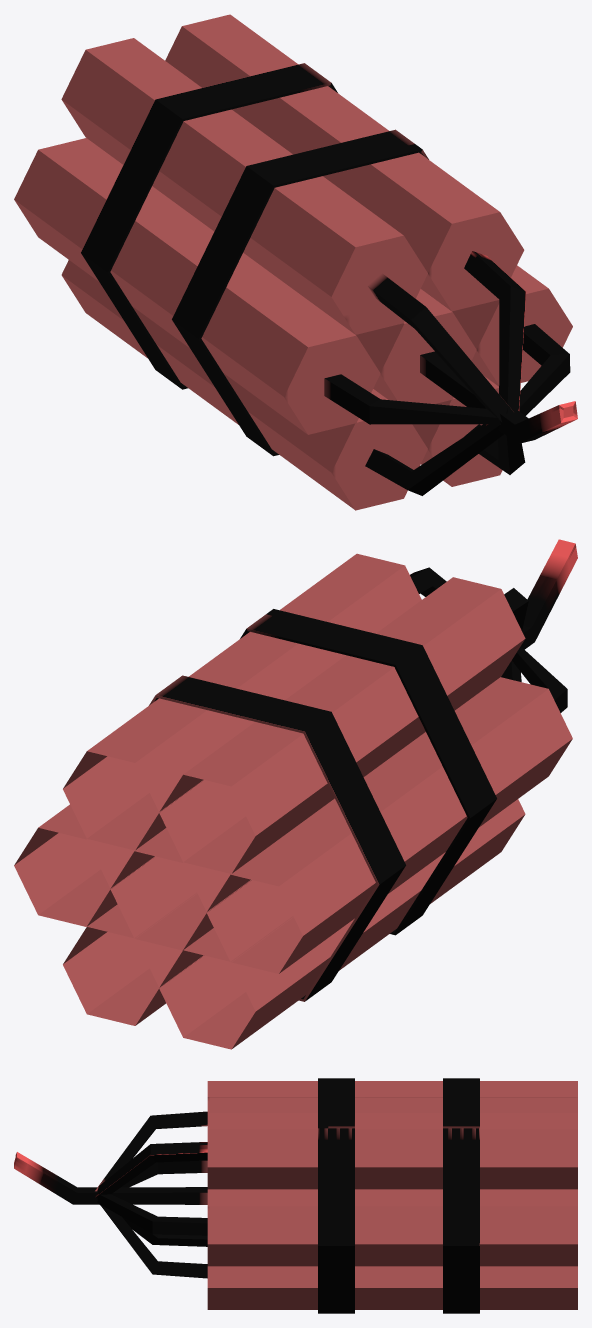
Rendered from Dynamite.fbx.
The picture shows the model from 3 angles, top to bottom: view 1: azimuth 30°, elevation 25°; view 2: azimuth 150°, elevation 25°; view 3: azimuth 270°, elevation 25°; orthographic projection. The views are drawn at different scales.
Visible parts, largest first — view 1: Dynamite; view 2: Dynamite; view 3: Dynamite.
Boxes of the visible parts, x1,y1,x2,y2 form: Dynamite: (14,14,577,510); Dynamite: (14,539,577,1049); Dynamite: (14,1078,577,1313).
Size of the model in its own units: 16.62 by 14.4 by 39.66.
Materials: 1 (1 with a texture image).
